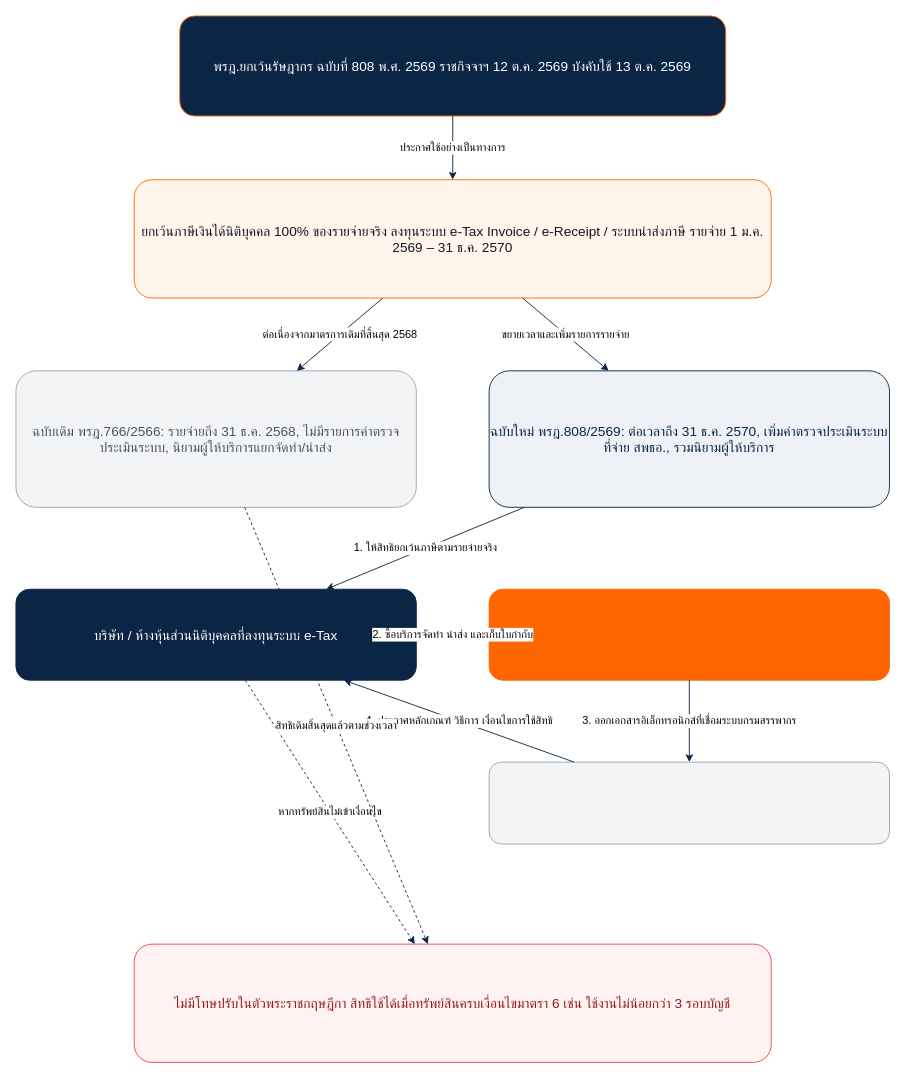
Image size: 905x1078. Some labels were removed from this diagram. The shapes that lost their labels are listed below. From the top down, each one's centre as x and y in pixels, then its label:
At pixel 689 634: "ผู้ให้บริการจัดทำ/นำส่งข้อมูล ผู้ให้บริการคลาวด์".
At pixel 689 802: "กรมสรรพากร อธิบดีออกประกาศหลักเกณฑ์".
